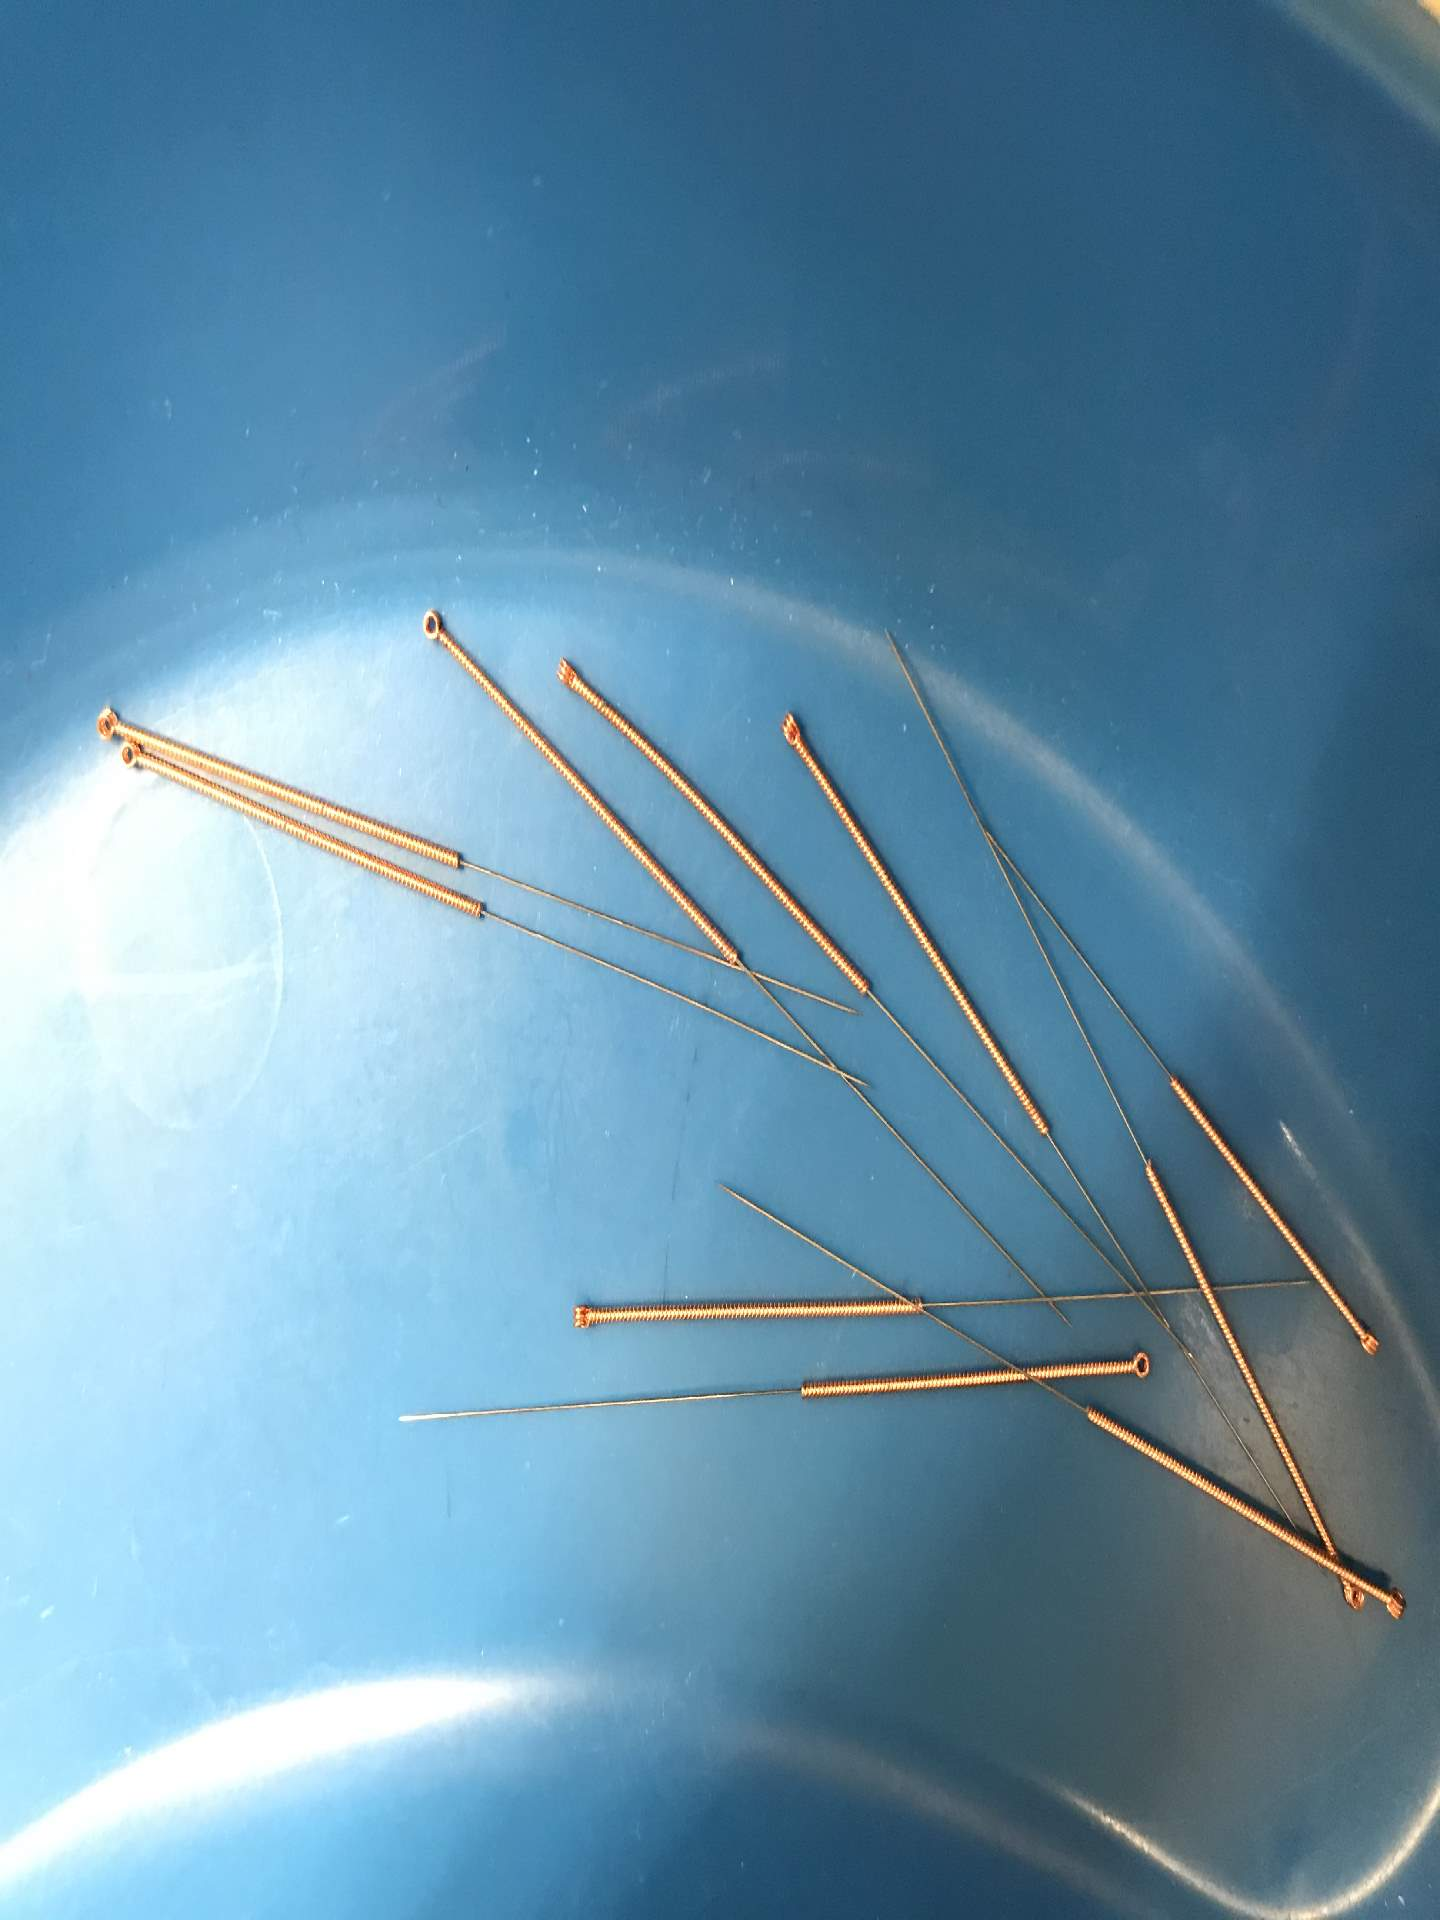needle: (405, 597, 458, 658), (768, 698, 814, 766), (540, 652, 594, 701), (1112, 1342, 1162, 1389), (558, 1293, 604, 1342), (1372, 1575, 1414, 1628), (1349, 1314, 1383, 1367), (86, 701, 126, 745), (109, 739, 148, 780), (1339, 1581, 1369, 1618)
